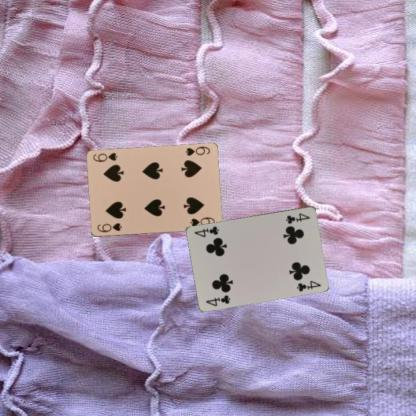4c: (203, 292, 232, 308), (283, 210, 312, 225)
6s: (95, 220, 123, 234), (182, 144, 211, 157)
